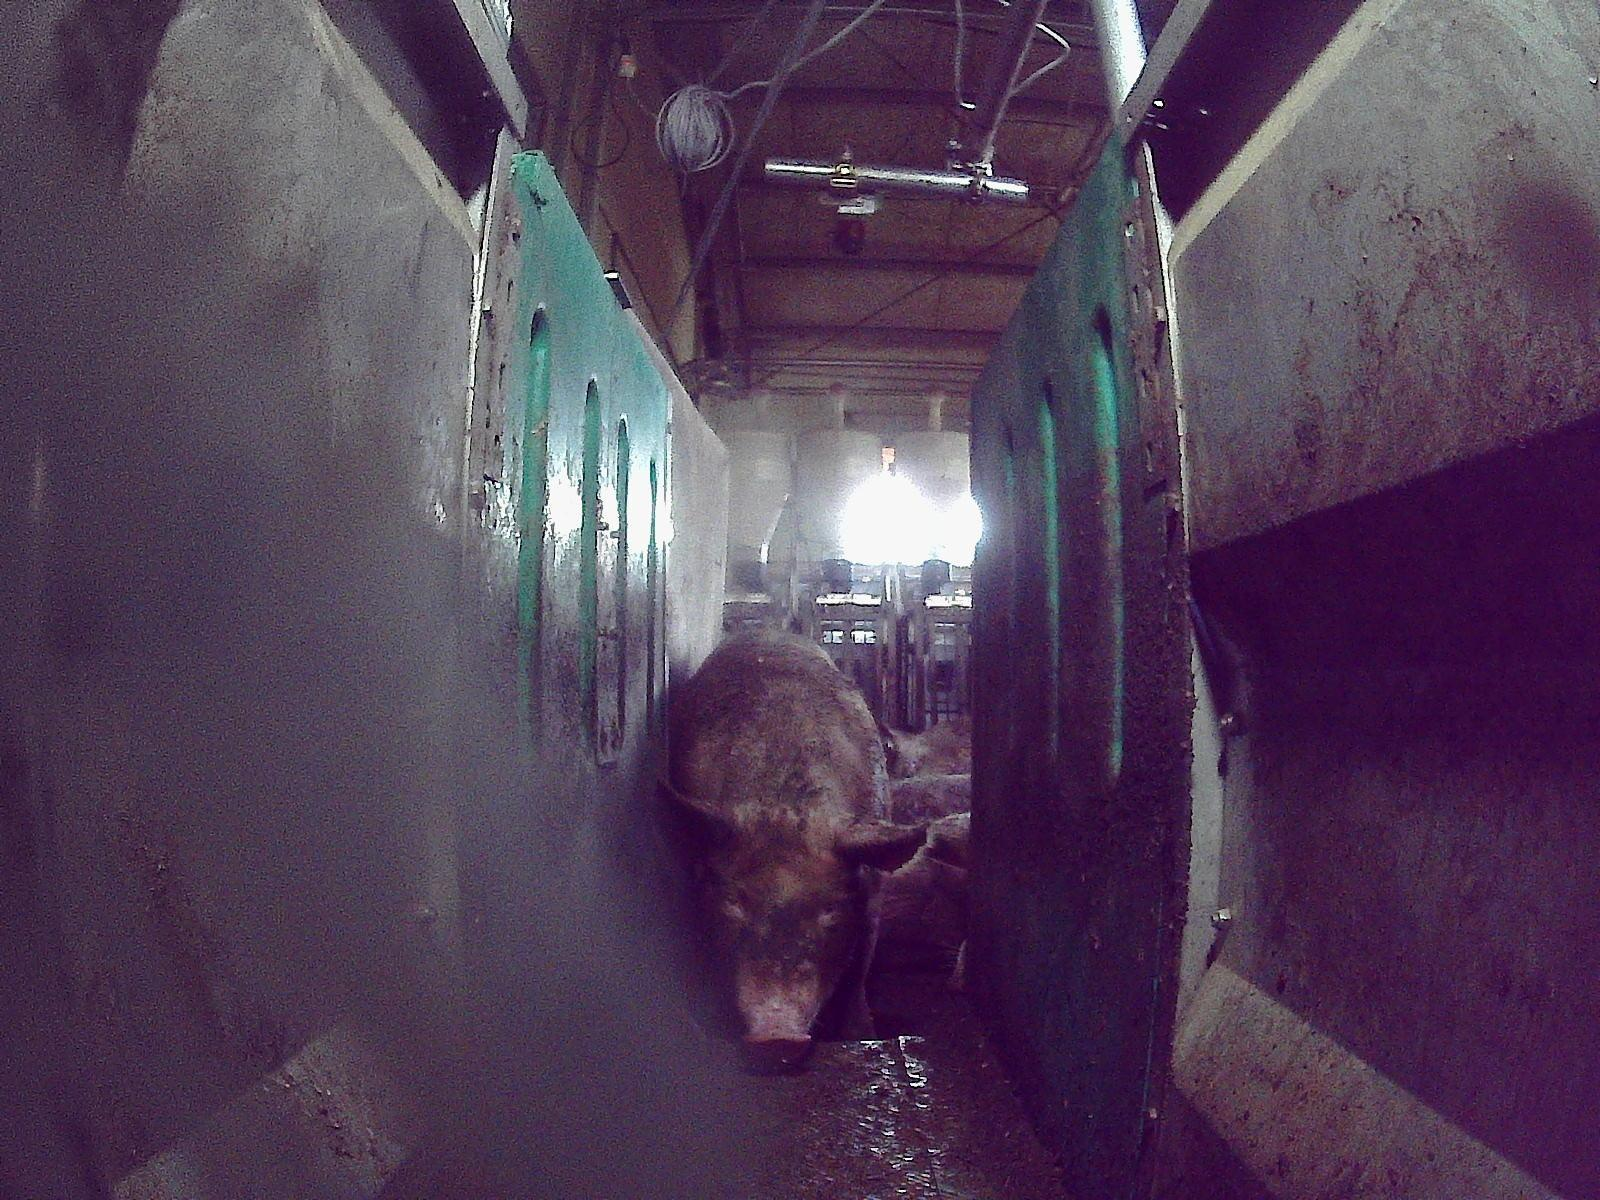Face: (702, 814, 857, 1060)
